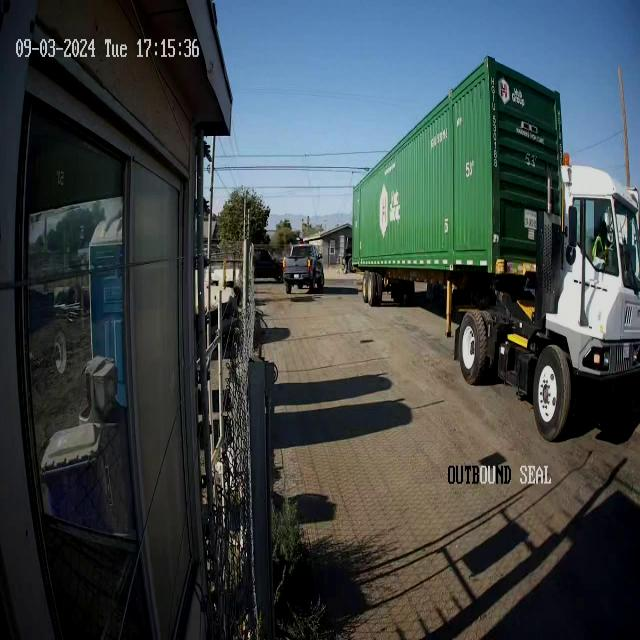CONTAINER: (351, 54, 565, 276)
